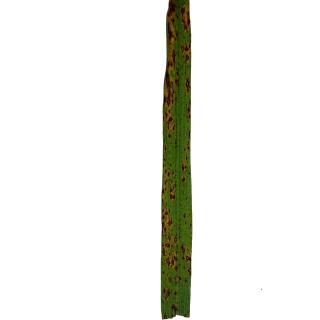Blast: (167, 4, 178, 48), (180, 4, 190, 34), (166, 75, 175, 108), (181, 42, 190, 64), (168, 50, 177, 70), (163, 286, 170, 299), (165, 255, 171, 268), (172, 233, 178, 244), (168, 218, 174, 228), (166, 232, 172, 241), (174, 254, 178, 264), (188, 266, 192, 276), (181, 245, 185, 254), (187, 255, 190, 263)
